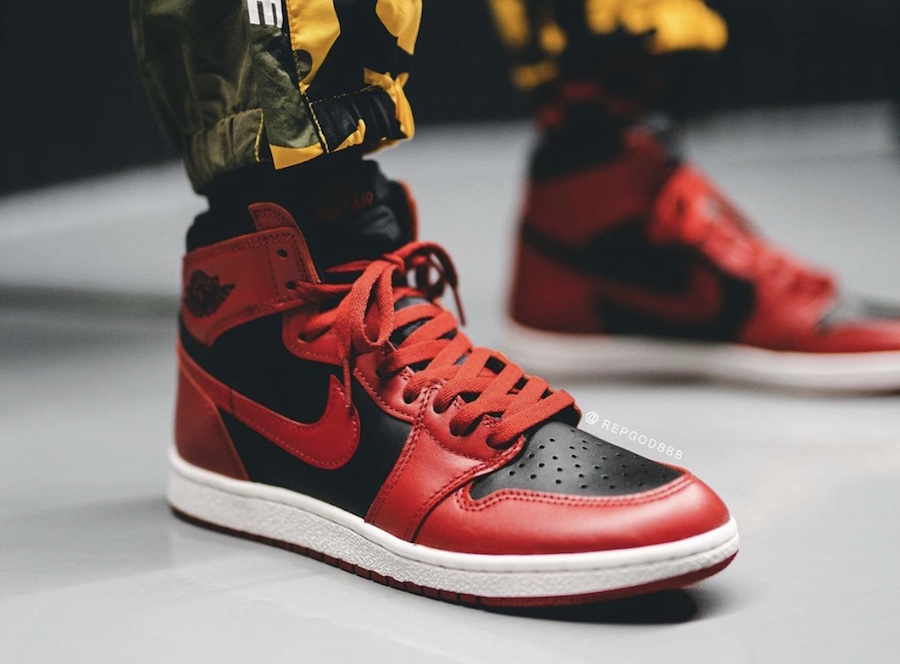Jordan 1: (162, 151, 748, 615)
